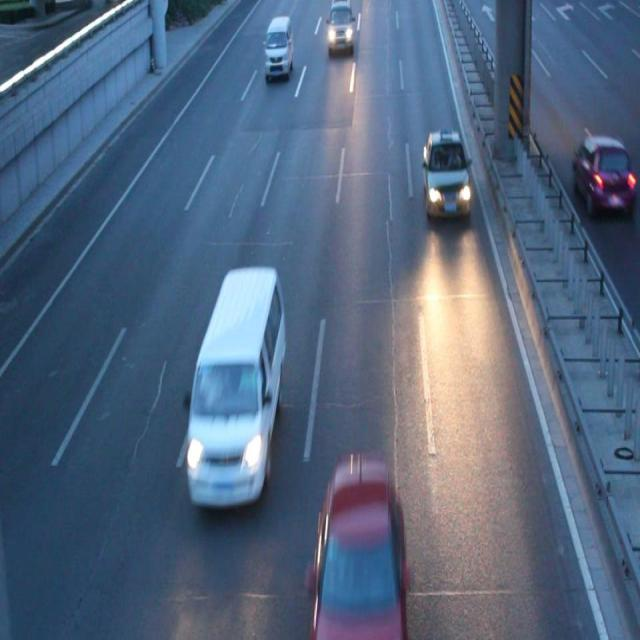car: (310, 458, 406, 640), (420, 131, 472, 220)
truck: (185, 268, 285, 511), (263, 16, 292, 74), (326, 1, 354, 52)
